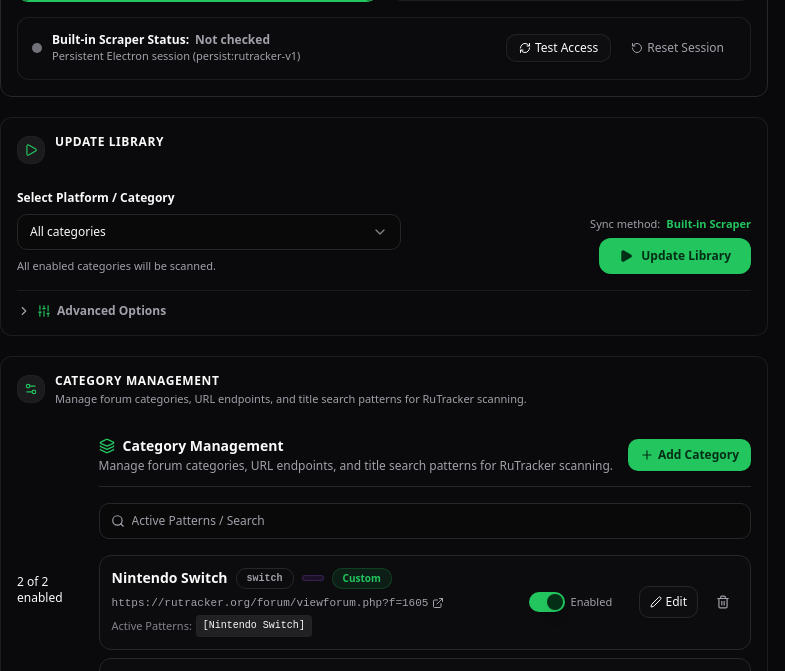
ScraperPanel Advanced Options UI Integration (V3-12) › toggles advanced options panel and displays descriptive copy and cost notice
(page scrolled)
What coordinates should you click on to do the following:
click the button "Advanced Options"
I would click on:
 (92, 311)
Its box is [17, 303, 166, 319].
(page scrolled)
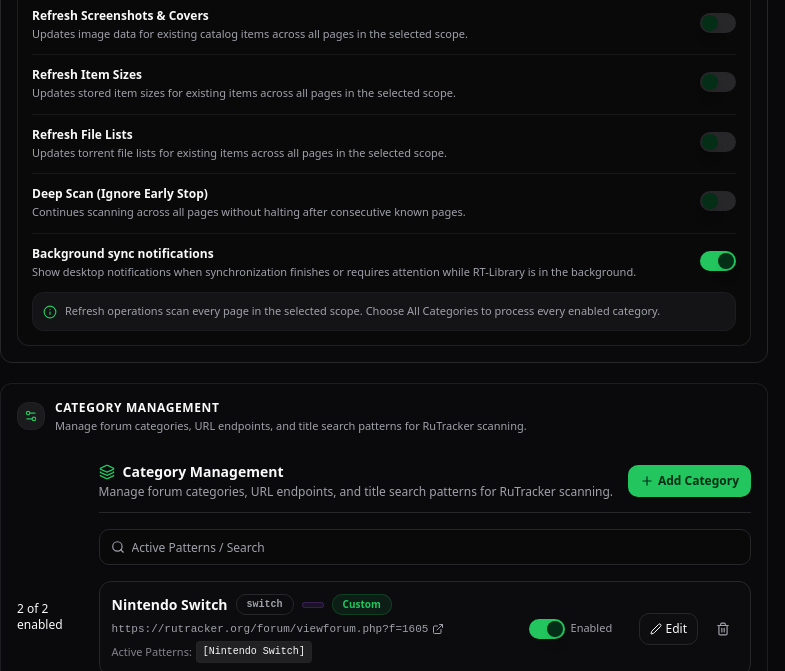
Expected: the text "Refresh Screenshots & Covers" is shown, [32, 6, 209, 24]
Expected: the text "Refresh Item Sizes" is shown, [32, 66, 142, 83]
Expected: the text "Refresh File Lists" is shown, [32, 126, 133, 142]
